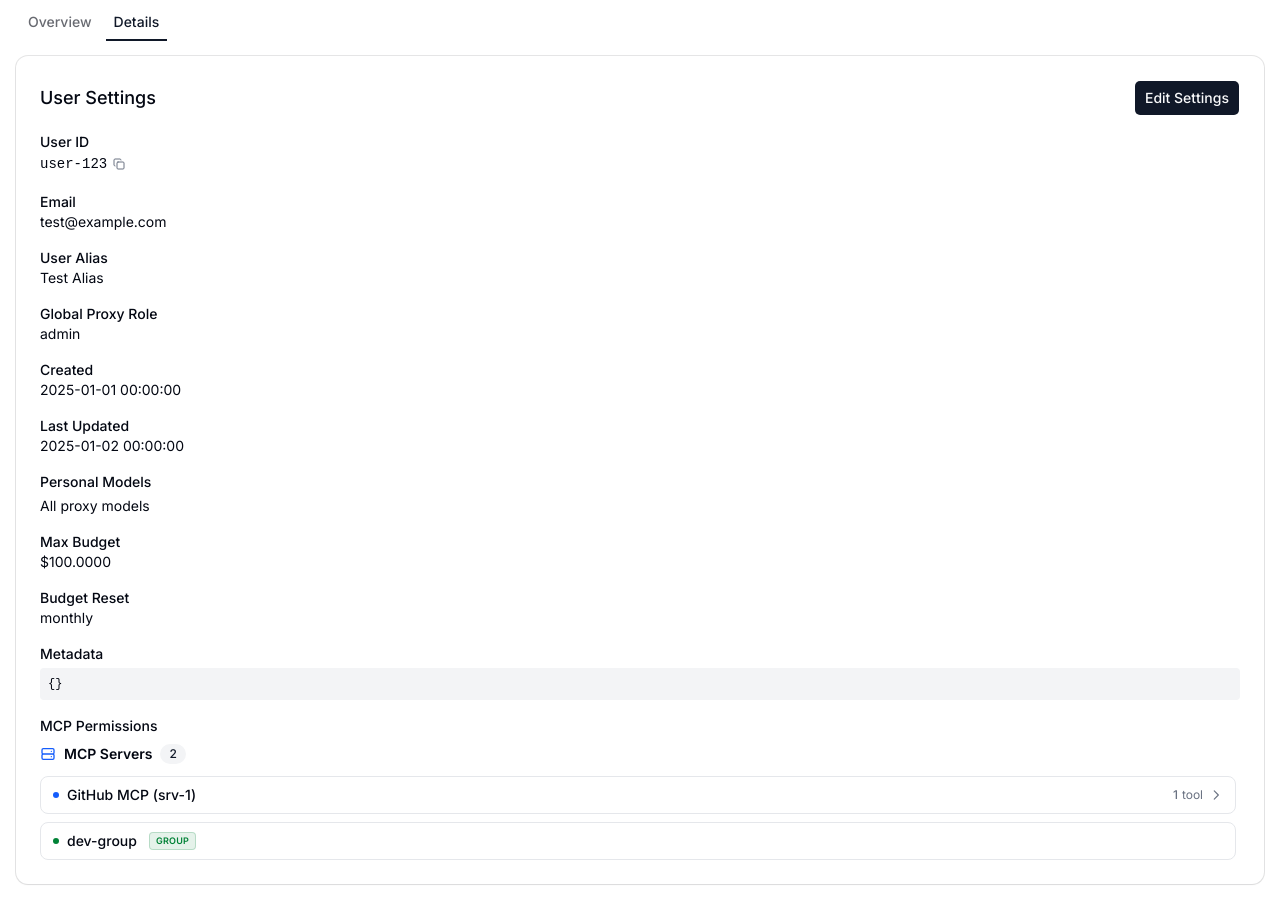
Test case: UserInfoView › should keep the Details panel state while the Overview tab is shown
The image size is (1280, 900).
(page scrolled)
Click the text "GitHub MCP (srv-1)" at [132, 795], box [67,785,196,805]
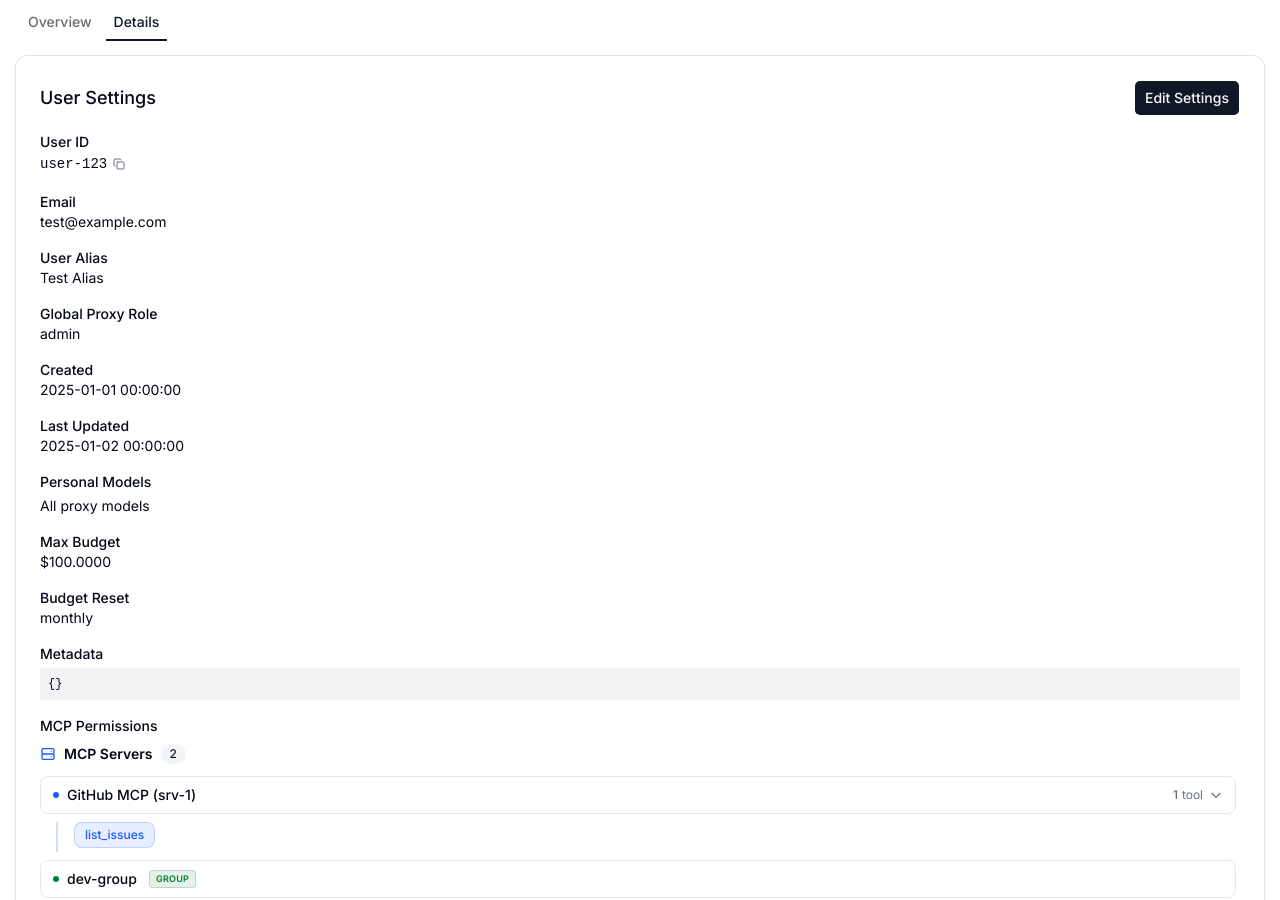
Check: the text "list_issues" is shown, box [74,822,155,848]
Click the tab "Overview" at [60, 22], box [19,8,100,36]
(page scrolled)
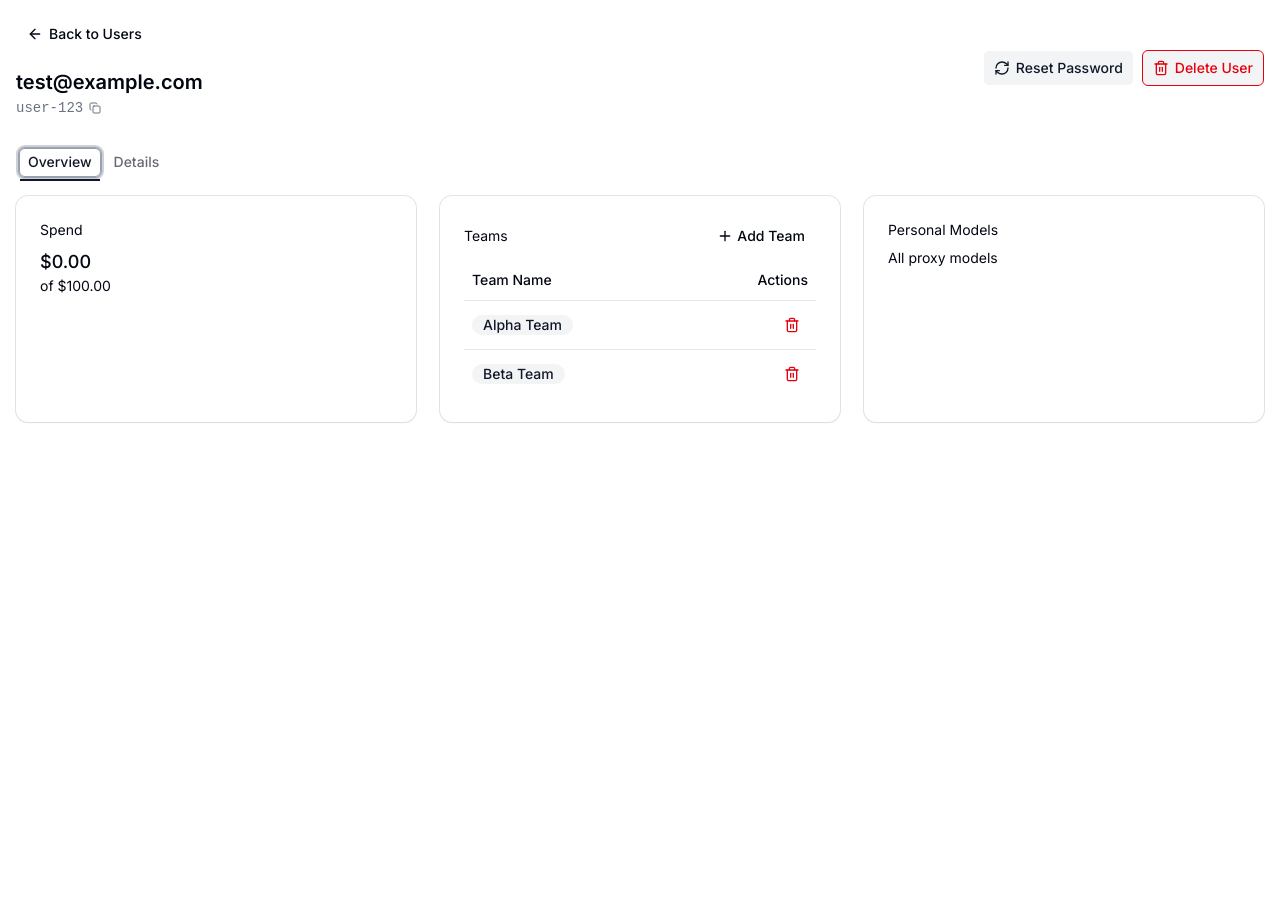
Check: the text "of $100.00" is shown, box [40,277,111,294]
Click the tab "Details" at [136, 162], box [104,148,168,176]
(page scrolled)
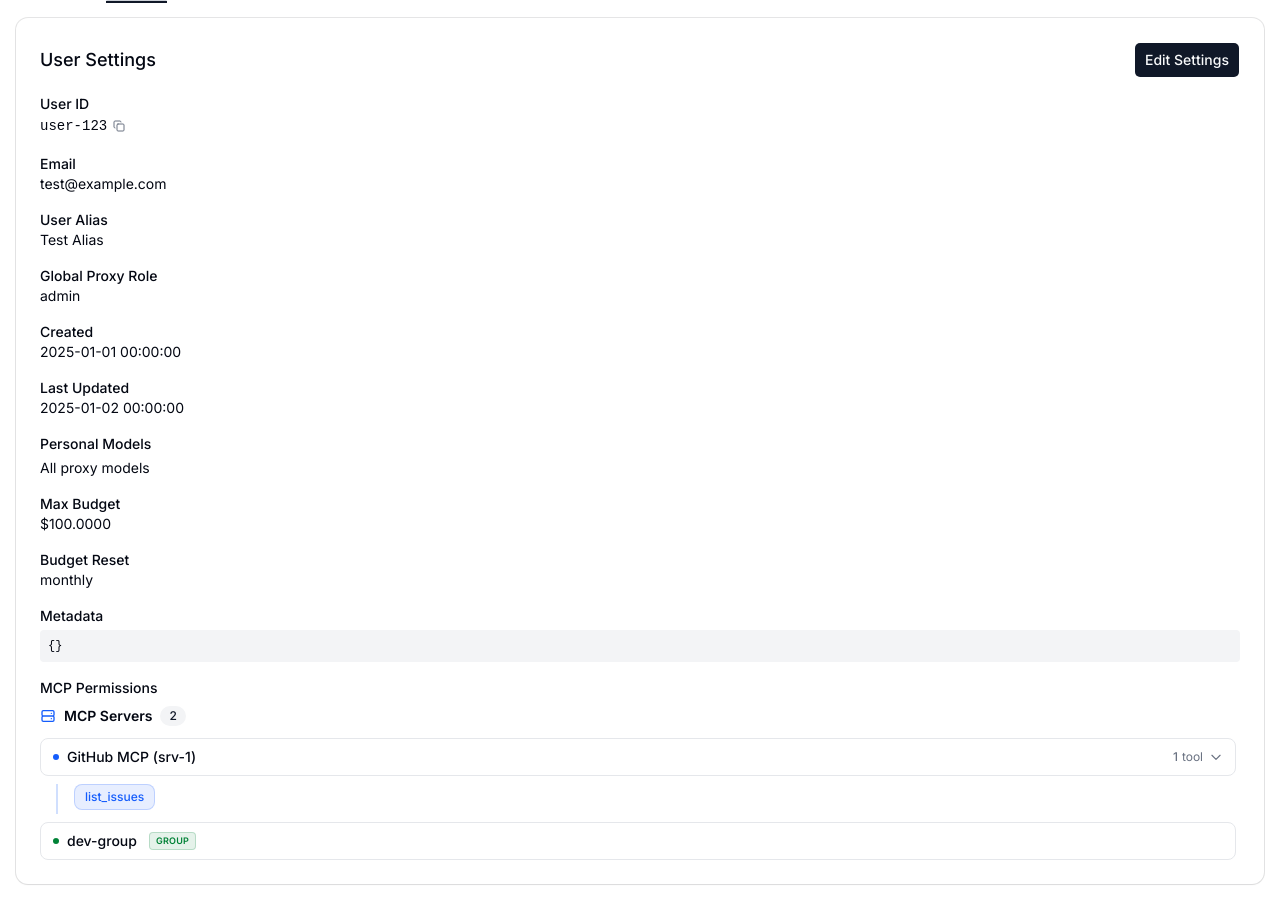
Check: the text "list_issues" is shown, box [74,784,155,810]
